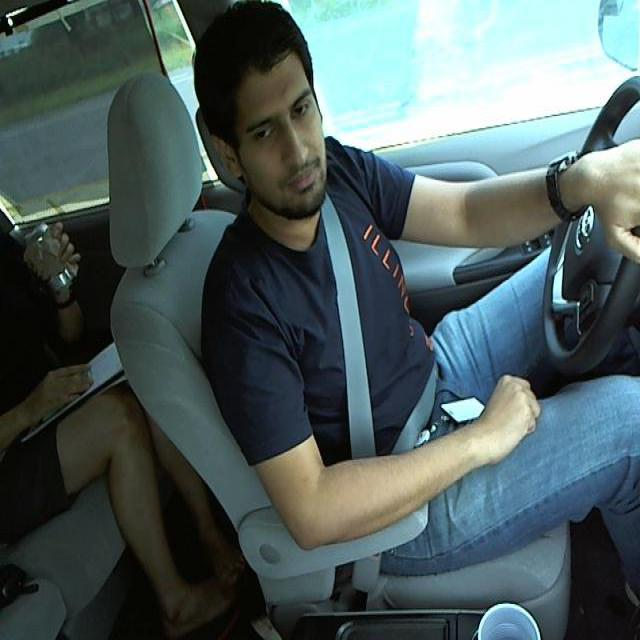seatbelt: (323, 222, 383, 454)
